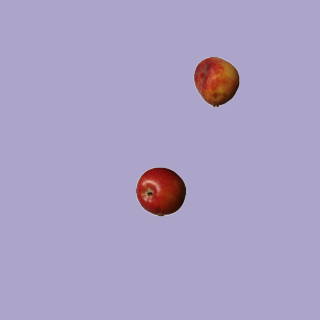Apple Braeburn: (135, 166, 185, 216)
Peach: (191, 56, 241, 106)
